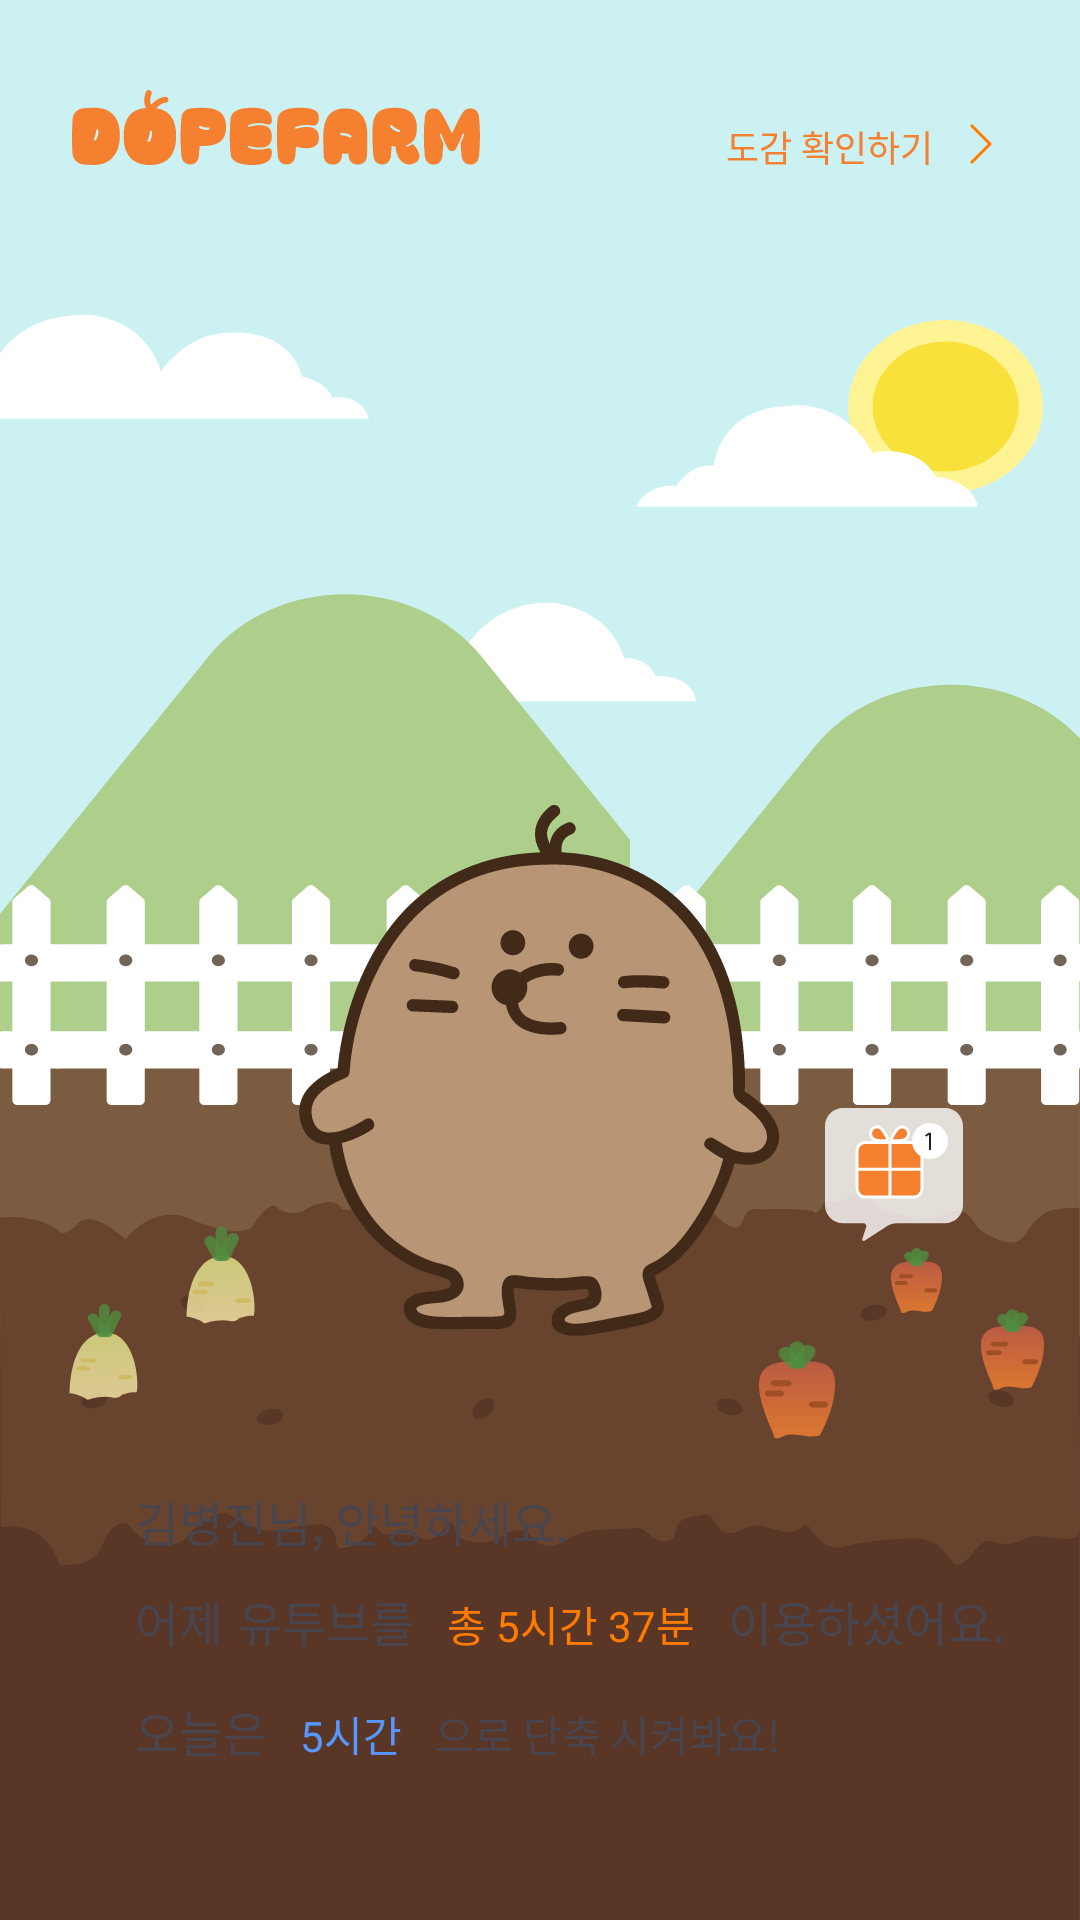

Locate icon controls on the screen. Image size 1080w x 1920h, boxes as (x1, y1, x2, y2).
chevron right: (970, 124, 992, 164)
sunmulbtn: (825, 1108, 963, 1241)
